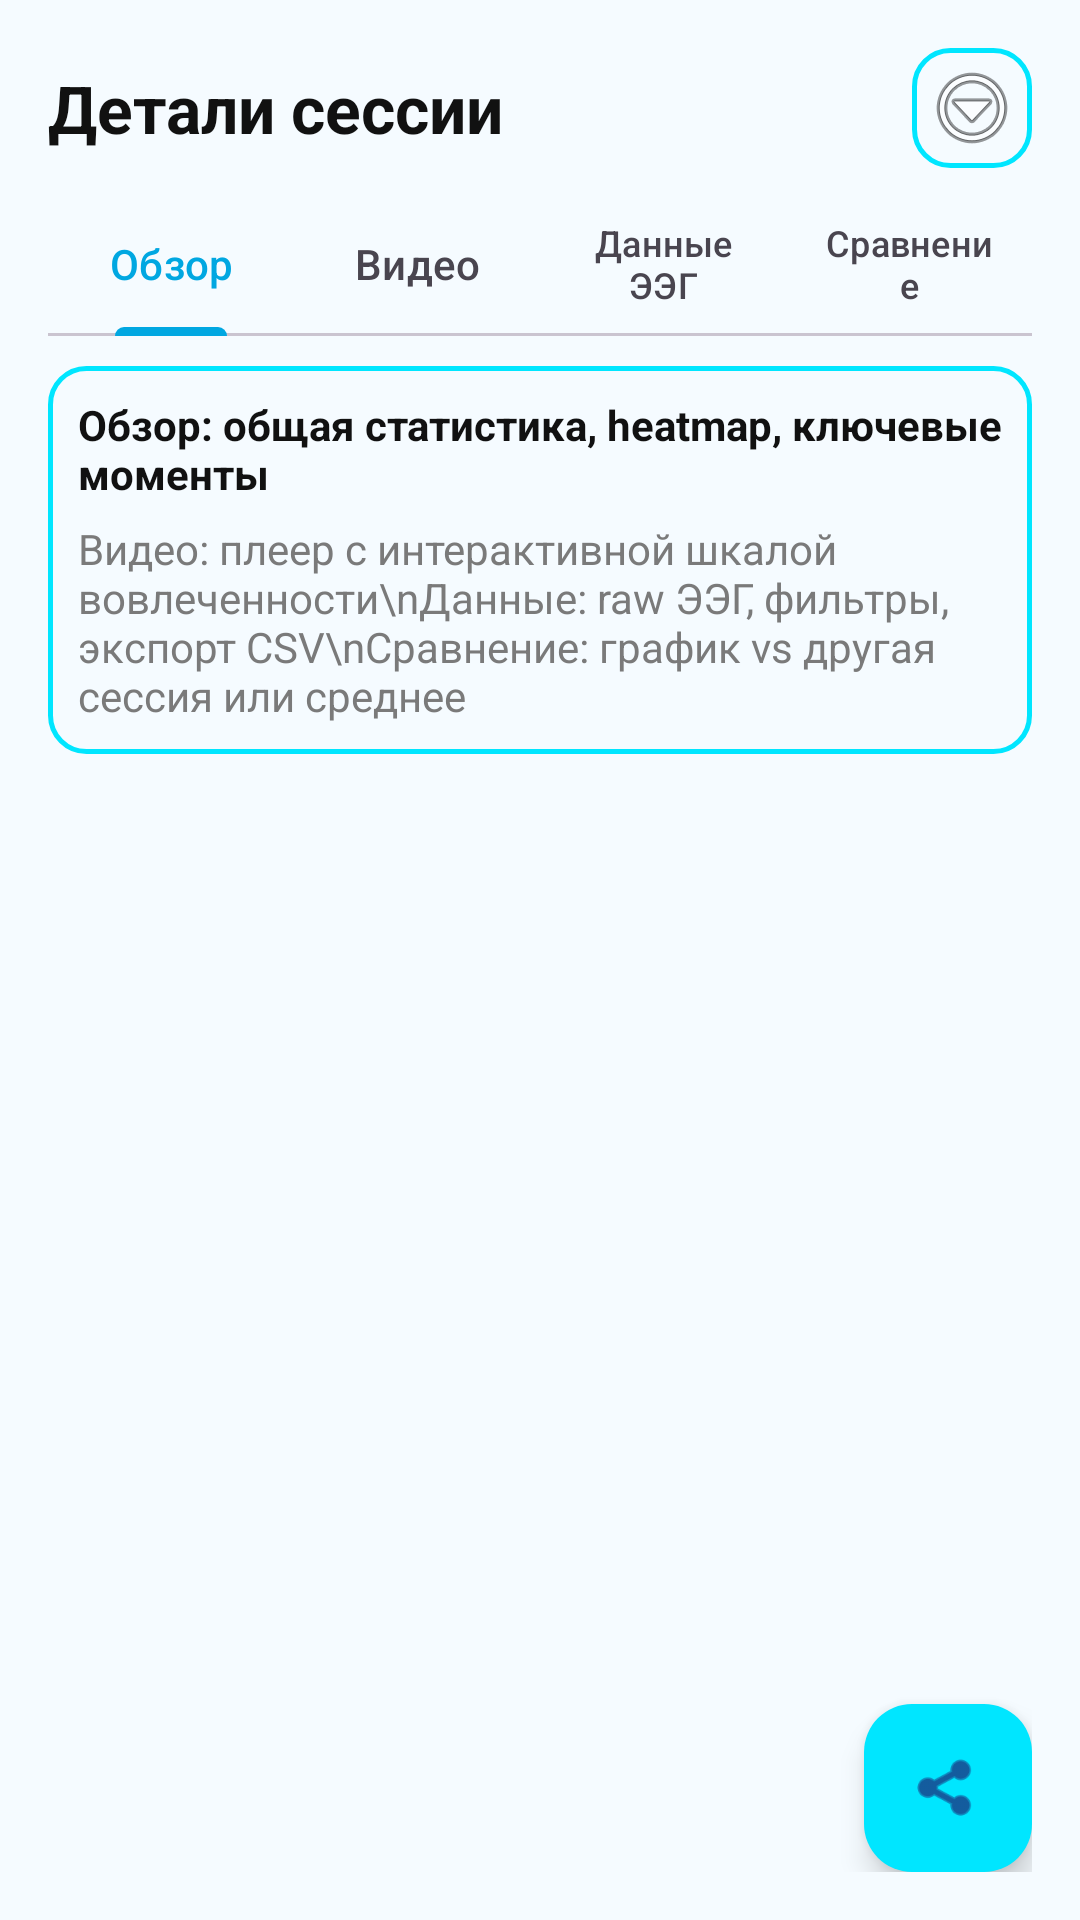

Named icons in this screenshot (1080 × 1920) and their bounding boxes, (x1, y1, x2, y2):
Меню: (912, 48, 1032, 168)
Экспорт отчета: (864, 1704, 1032, 1872)
